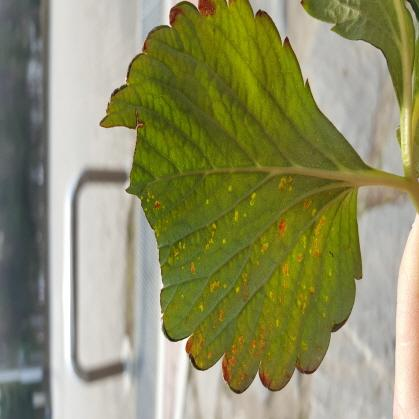Angular Leafspot: (138, 174, 357, 393)
